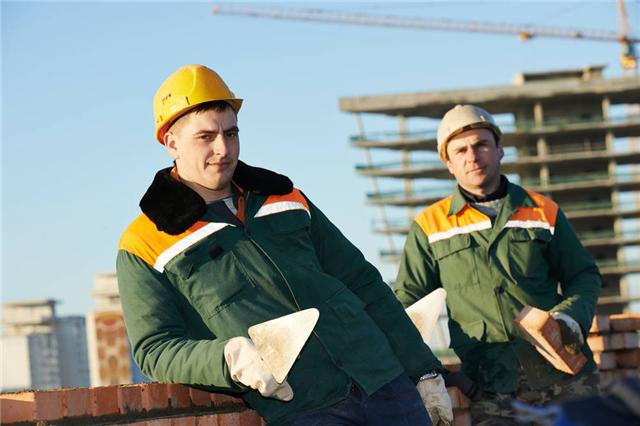helmet: (138, 44, 255, 194), (424, 98, 508, 194)
